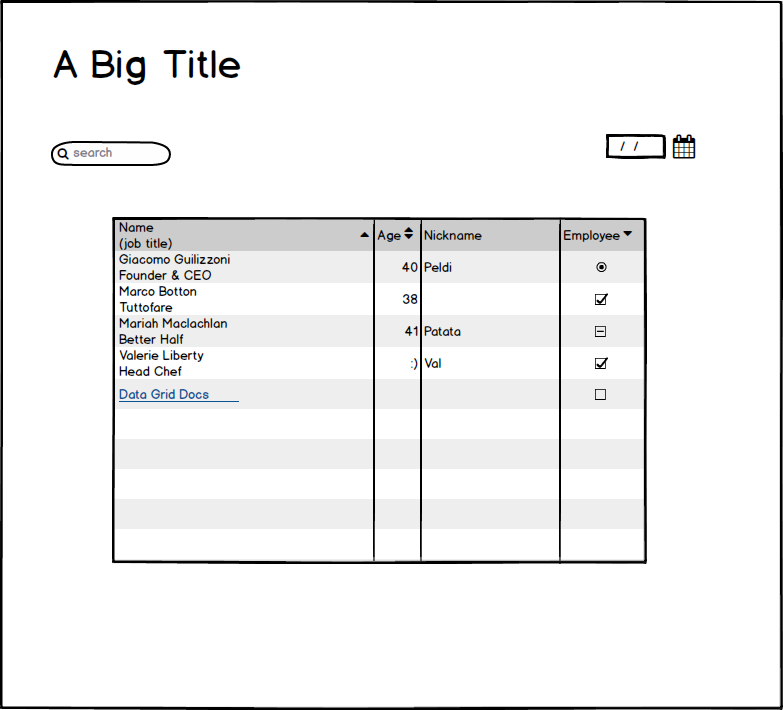date_picker: (599, 128, 703, 166)
h1: (48, 40, 249, 90)
search: (45, 132, 178, 171)
table: (106, 211, 655, 568)
